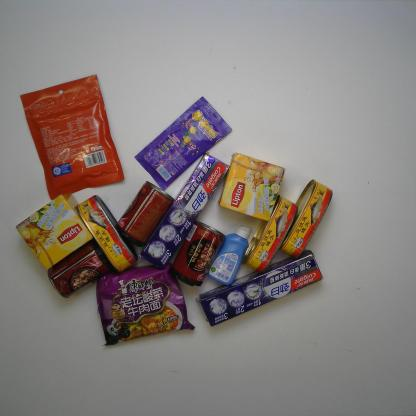Candy: (134, 95, 233, 192)
Canned Food: (75, 195, 138, 273), (243, 194, 298, 272), (281, 179, 334, 258), (115, 180, 174, 248), (48, 240, 112, 299), (173, 222, 225, 288)
Dried Fruit: (20, 74, 125, 204)
Instant Drink: (15, 194, 93, 270), (218, 152, 285, 222)
Instant Noodles: (93, 260, 195, 349)
Personal Hygiene: (140, 152, 230, 269), (196, 250, 324, 329), (207, 225, 251, 286)
